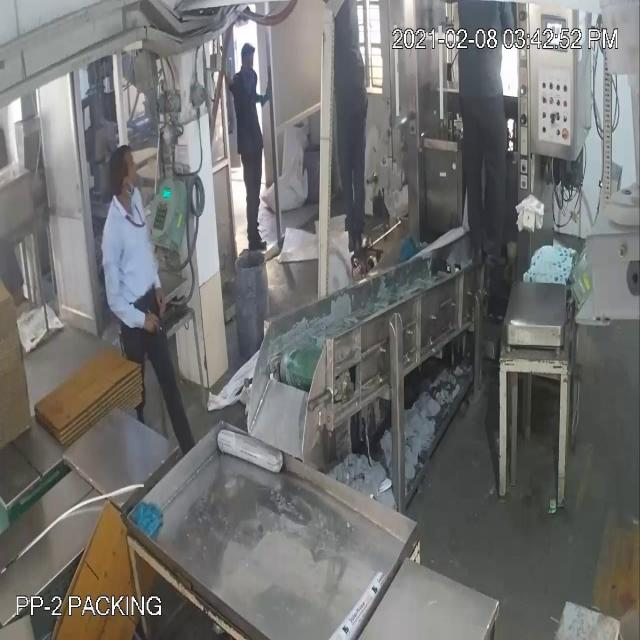No_Gloves: (99, 241, 161, 344)
